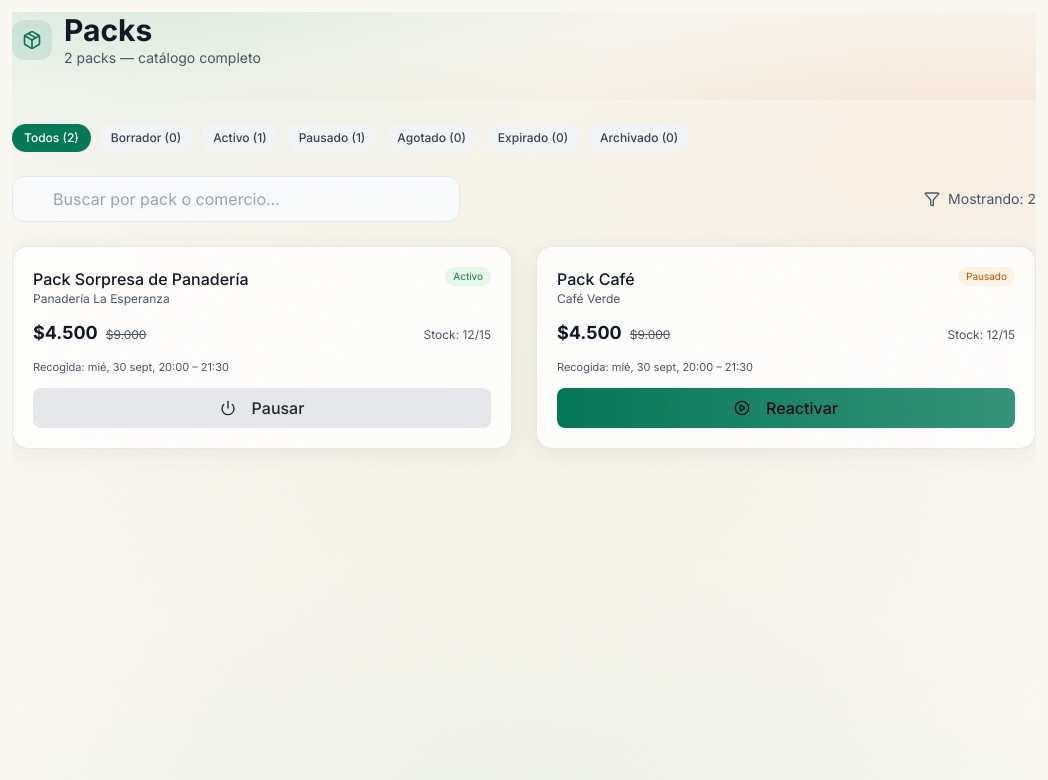
Test: AdminPacksPage (ADMIN-2) › los chips filtran por estado y la búsqueda por comercio
Click the button "Pausado (1)".
click(332, 138)  # box x1=287 y1=124 x2=377 y2=152
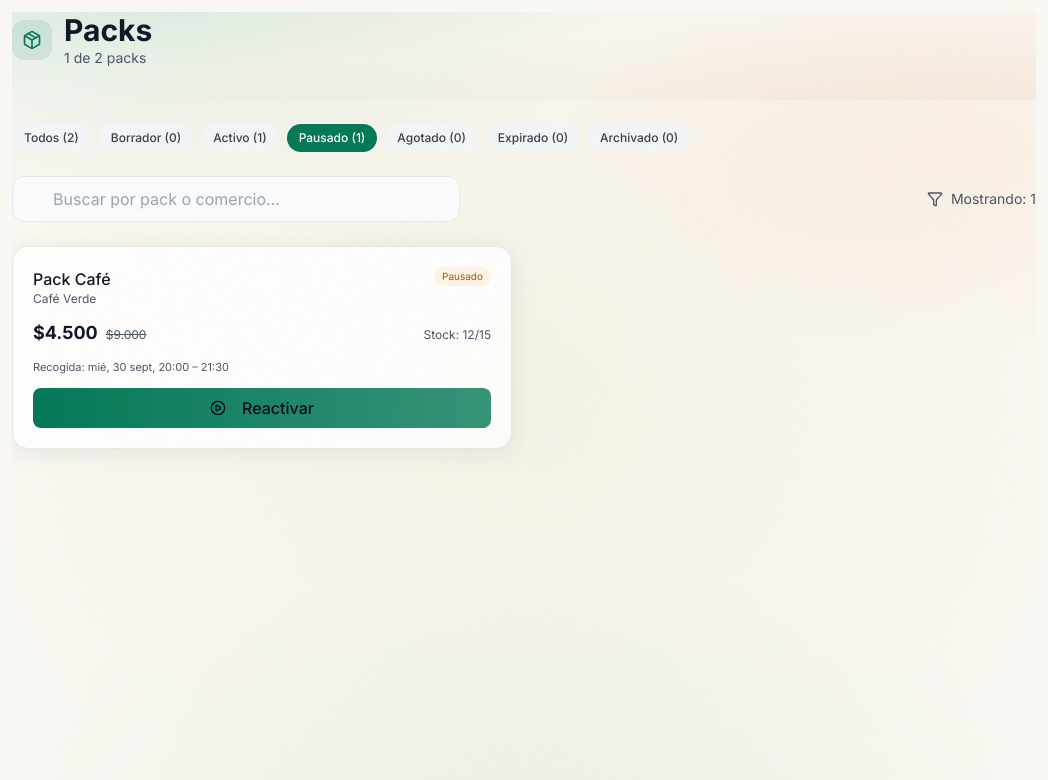
expect the text "1 de 2 packs" is shown: met, box x1=64 y1=48 x2=152 y2=68
expect the text "Pack Sorpresa de Panadería" is gone: met
Click the button "Todos (2)".
click(51, 138)  # box x1=12 y1=124 x2=91 y2=152
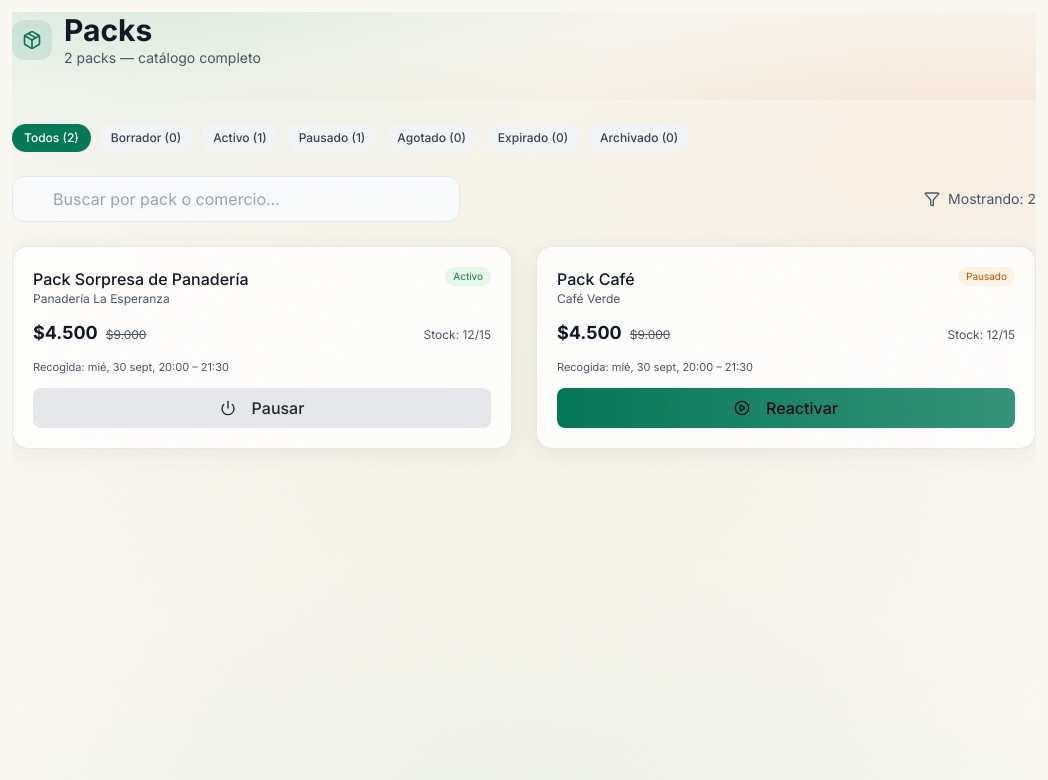
Type "café verde" into the field with placeholder "Buscar por pack o comercio...".
click(236, 199); type("café verde")  # box x1=12 y1=176 x2=460 y2=222
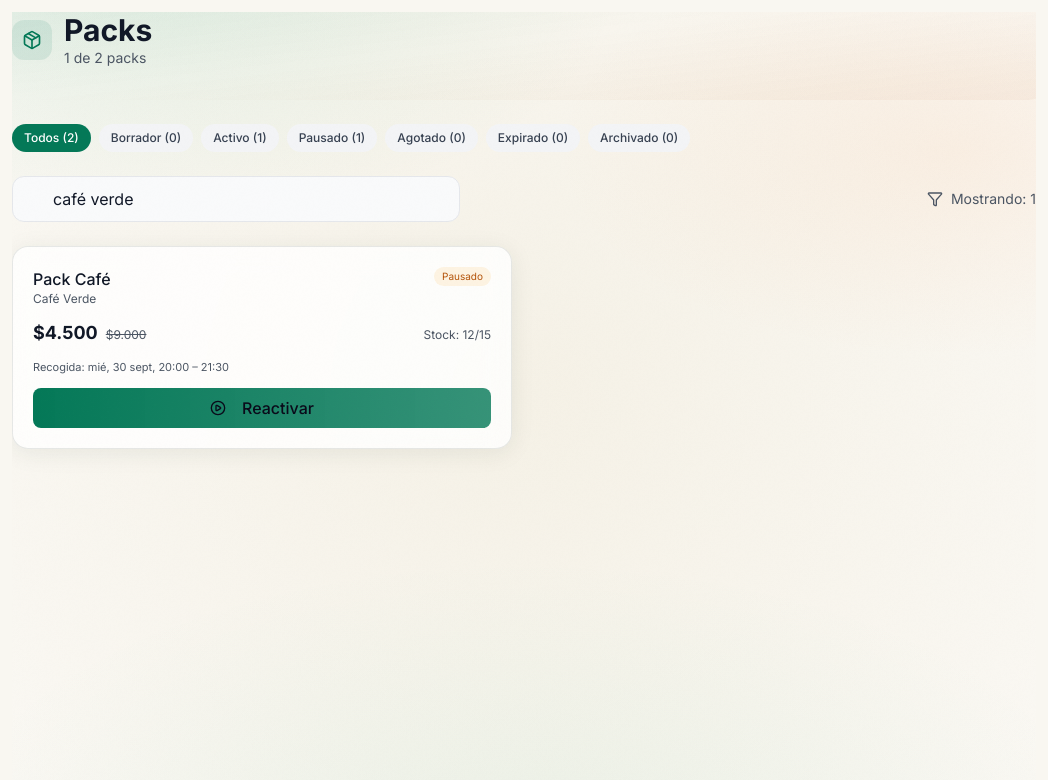
expect the text "Pack Café" is shown: met, box x1=33 y1=267 x2=111 y2=291
expect the text "1 de 2 packs" is shown: met, box x1=64 y1=48 x2=152 y2=68
expect the text "Pack Sorpresa de Panadería" is gone: met
